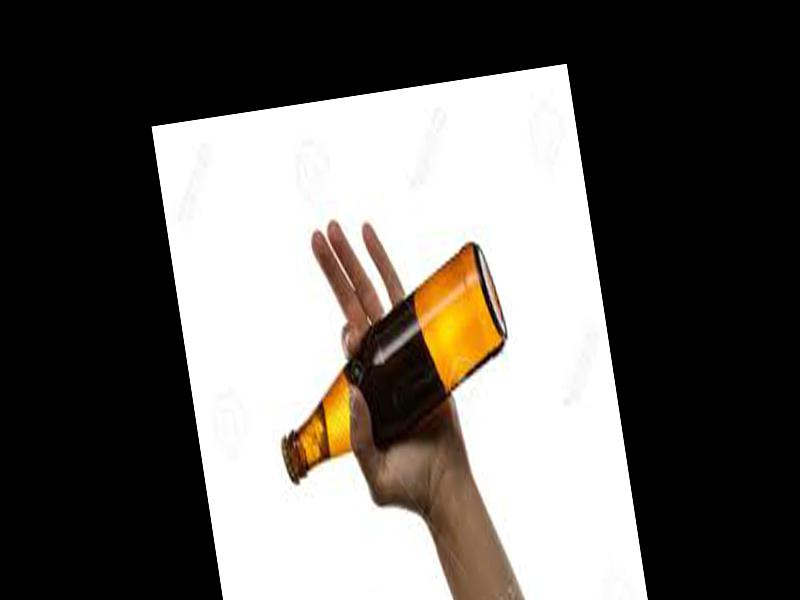Beer: (261, 245, 522, 480)
